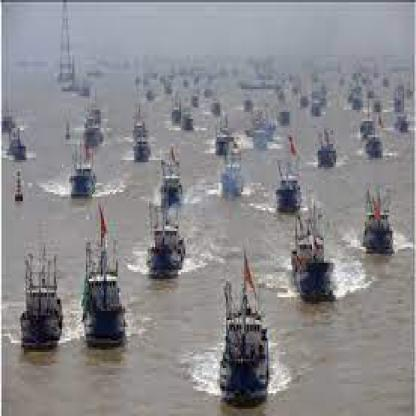fish-b: (218, 238, 272, 409), (78, 204, 132, 345), (15, 245, 66, 352), (139, 194, 190, 286), (291, 196, 335, 302), (360, 178, 398, 261), (273, 133, 301, 217), (68, 135, 101, 206), (156, 142, 186, 206)
